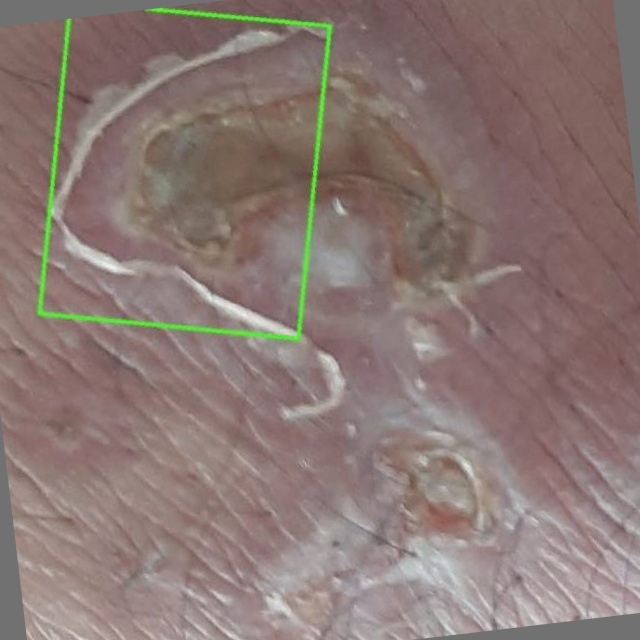Contact Dermatitis: (38, 8, 329, 338)
